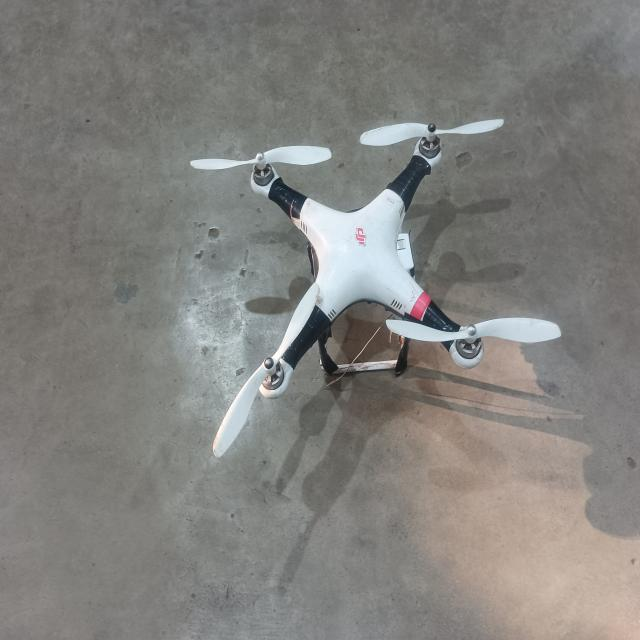drone: (167, 100, 568, 477)
